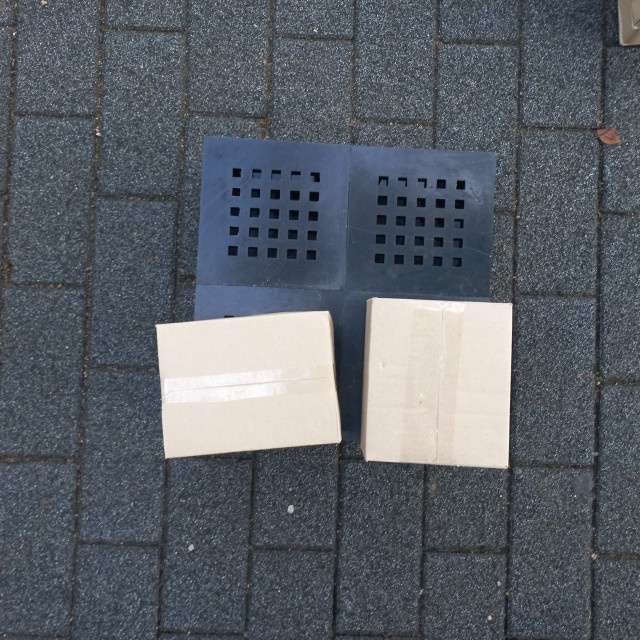box: (154, 307, 342, 462), (362, 295, 514, 471)
